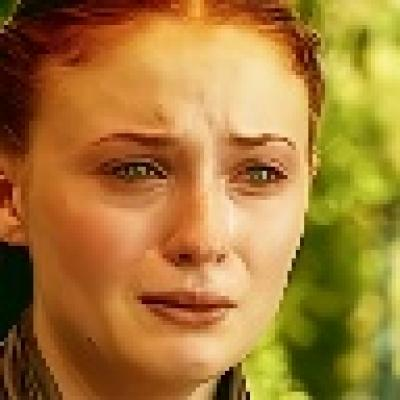sad: (36, 21, 305, 370)
